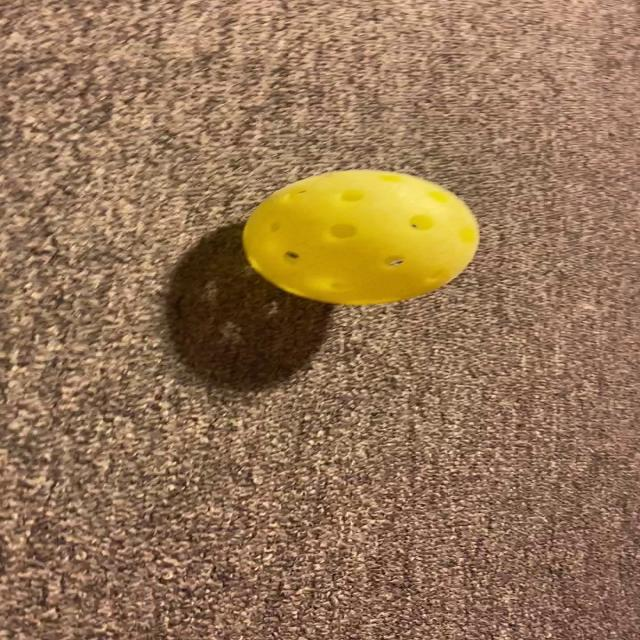ball: (231, 158, 496, 304)
